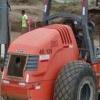Tractor: (6, 14, 100, 94)
